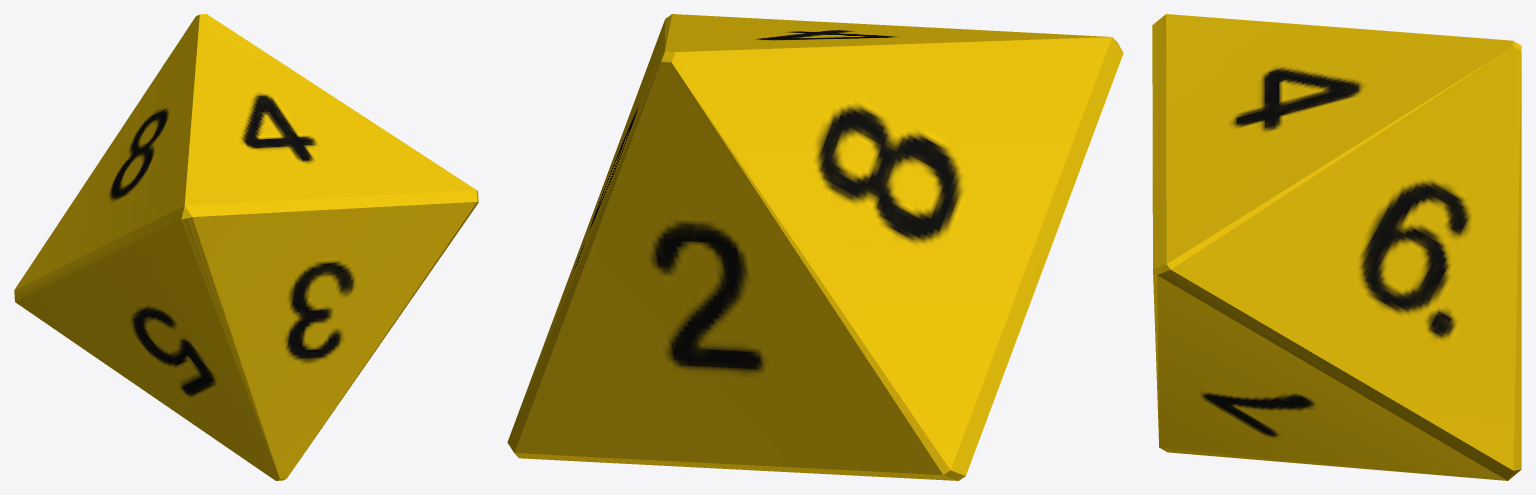
3 views of the same model, side by side, from view 1: azimuth 30°, elevation 25°; view 2: azimuth 150°, elevation 25°; view 3: azimuth 270°, elevation 25° (orthographic). The views are drawn at different scales.
Visible parts, largest first — view 1: Eight_sided_cube_pivot.003; view 2: Eight_sided_cube_pivot.003; view 3: Eight_sided_cube_pivot.003.
Boxes of the visible parts, bbox=[...] form: Eight_sided_cube_pivot.003: bbox=[14, 14, 478, 480]; Eight_sided_cube_pivot.003: bbox=[507, 14, 1123, 480]; Eight_sided_cube_pivot.003: bbox=[1152, 14, 1521, 480].
Size of the model in its own units: 1.63 by 1.66 by 1.25.
1 material, 1 textured.
